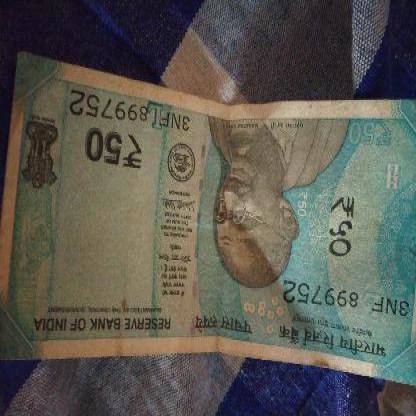New50Front: (0, 84, 415, 356)
